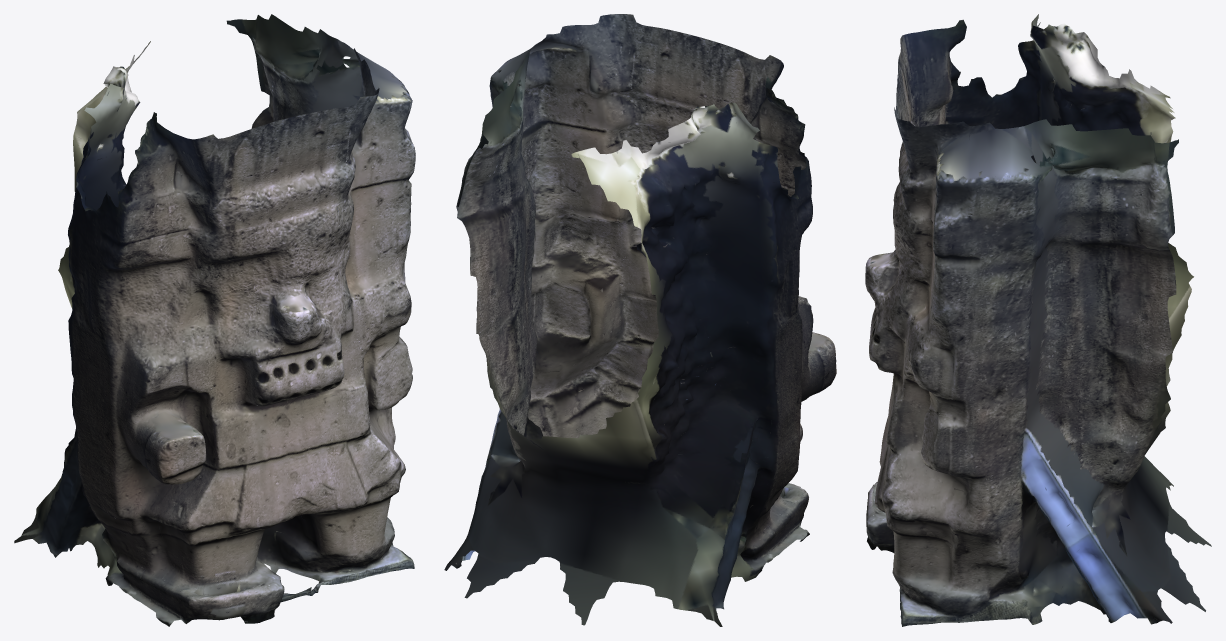
Rendered from chalchiuhtlicue2024.glb.
3 renders of one model, left to right at view 1: azimuth 30°, elevation 25°; view 2: azimuth 150°, elevation 25°; view 3: azimuth 270°, elevation 25°, orthographic. The views are drawn at different scales.
Visible parts, largest first — view 1: remesh; view 2: remesh; view 3: remesh.
Boxes of the visible parts, box(x1,y1,x2,y2) form: remesh: box(14, 14, 415, 626); remesh: box(444, 14, 836, 626); remesh: box(865, 14, 1211, 626).
Size of the model in its own units: 17.74 by 27.64 by 17.26.
1 material, 1 textured.
